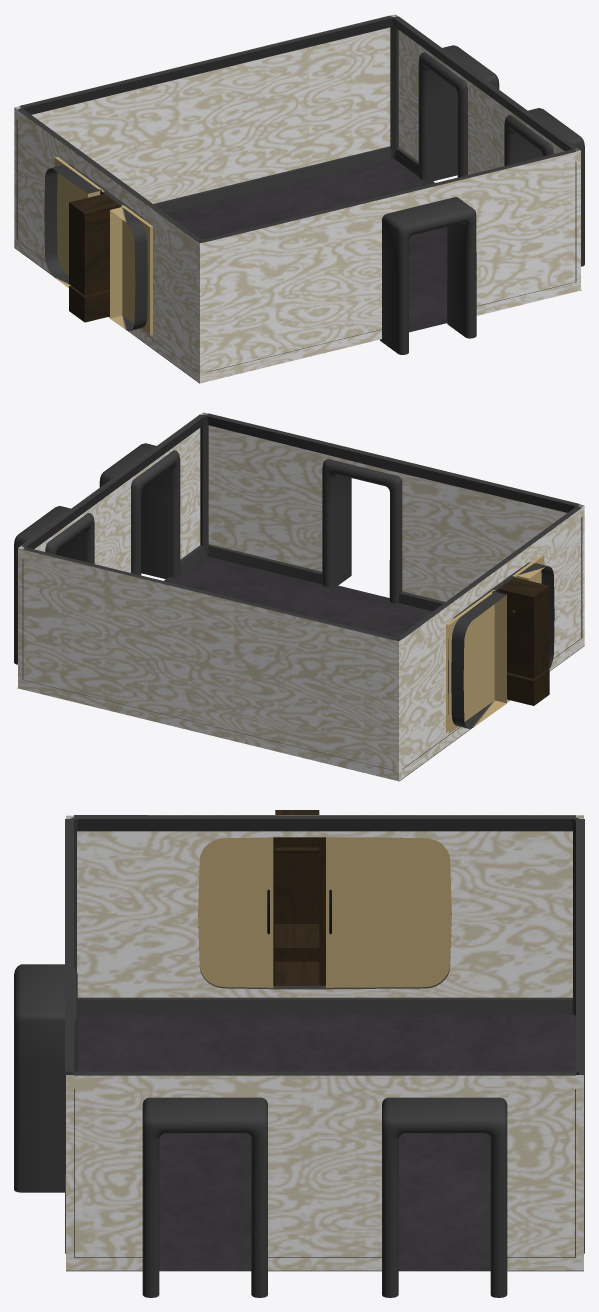
Rendered from astronaut_room.fbx.
The picture shows the model from 3 angles, top to bottom: view 1: azimuth 30°, elevation 25°; view 2: azimuth 150°, elevation 25°; view 3: azimuth 270°, elevation 25°; orthographic projection. The views are drawn at different scales.
Parts seen in each view (by area): view 1: astronaut_room; view 2: astronaut_room; view 3: astronaut_room.
Boxes of the visible parts, x1,y1,x2,y2 form: astronaut_room: [14, 14, 584, 383]; astronaut_room: [14, 412, 584, 781]; astronaut_room: [14, 810, 584, 1297].
Size of the model in its own units: 849 by 256 by 661.
